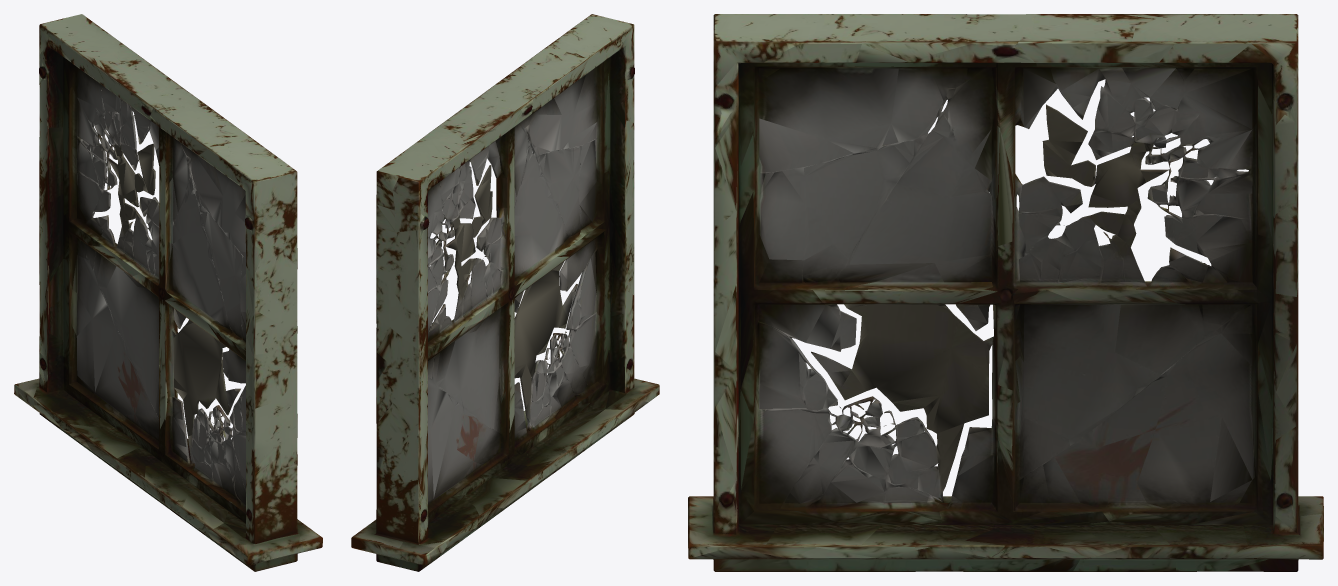
Rendered from ventana.fbx.
3 views of the same model, side by side, from view 1: azimuth 30°, elevation 25°; view 2: azimuth 150°, elevation 25°; view 3: azimuth 270°, elevation 25° (orthographic). The views are drawn at different scales.
Parts seen in each view (by area): view 1: tripo_node_6dd91b0d; view 2: tripo_node_6dd91b0d; view 3: tripo_node_6dd91b0d.
Part boxes in pixels (x1,y1,x2,y2): tripo_node_6dd91b0d: (14, 14, 322, 571); tripo_node_6dd91b0d: (351, 14, 659, 571); tripo_node_6dd91b0d: (688, 14, 1323, 571).
Bounding box in the file's own units: 18.59 × 92.06 × 99.98.
